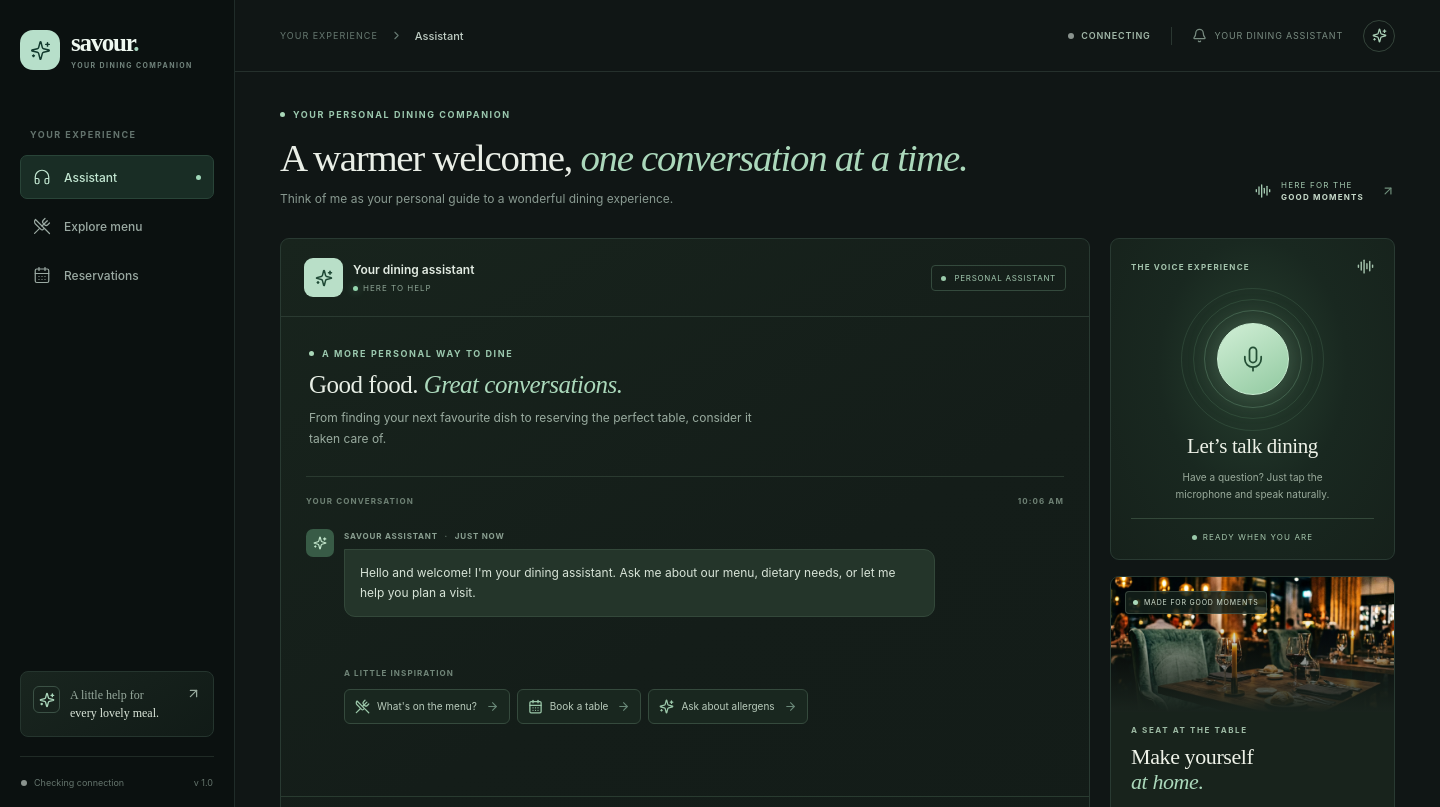
Scenario: restaurant experience › shows booking details before explicit cancellation
The width and height of the screenshot is (1440, 807).
Click the button "Reservations": (117, 275) [20,253,214,297]
(page scrolled)
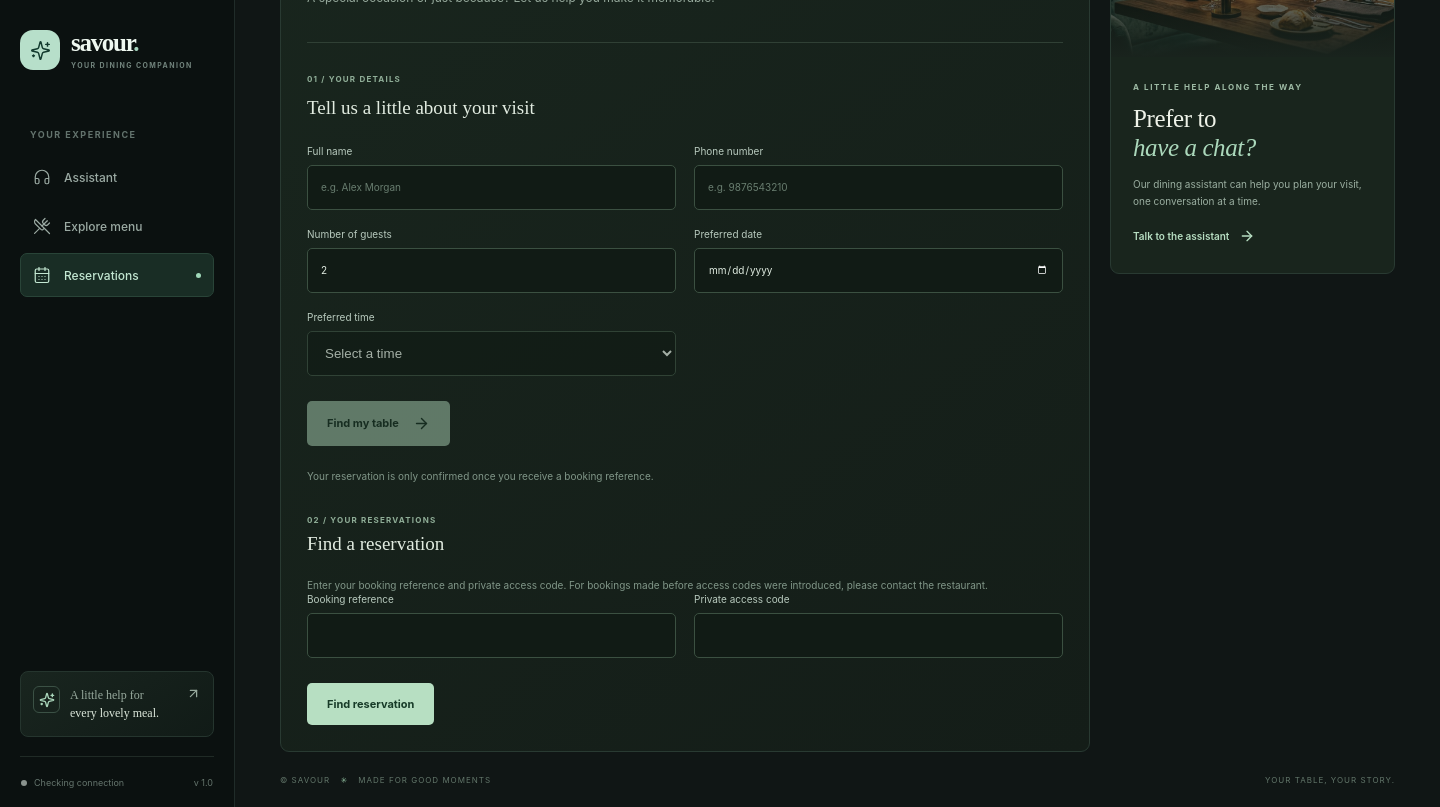
In the field labelled "Booking reference": (492, 635) [307,613,676,658], type "42"
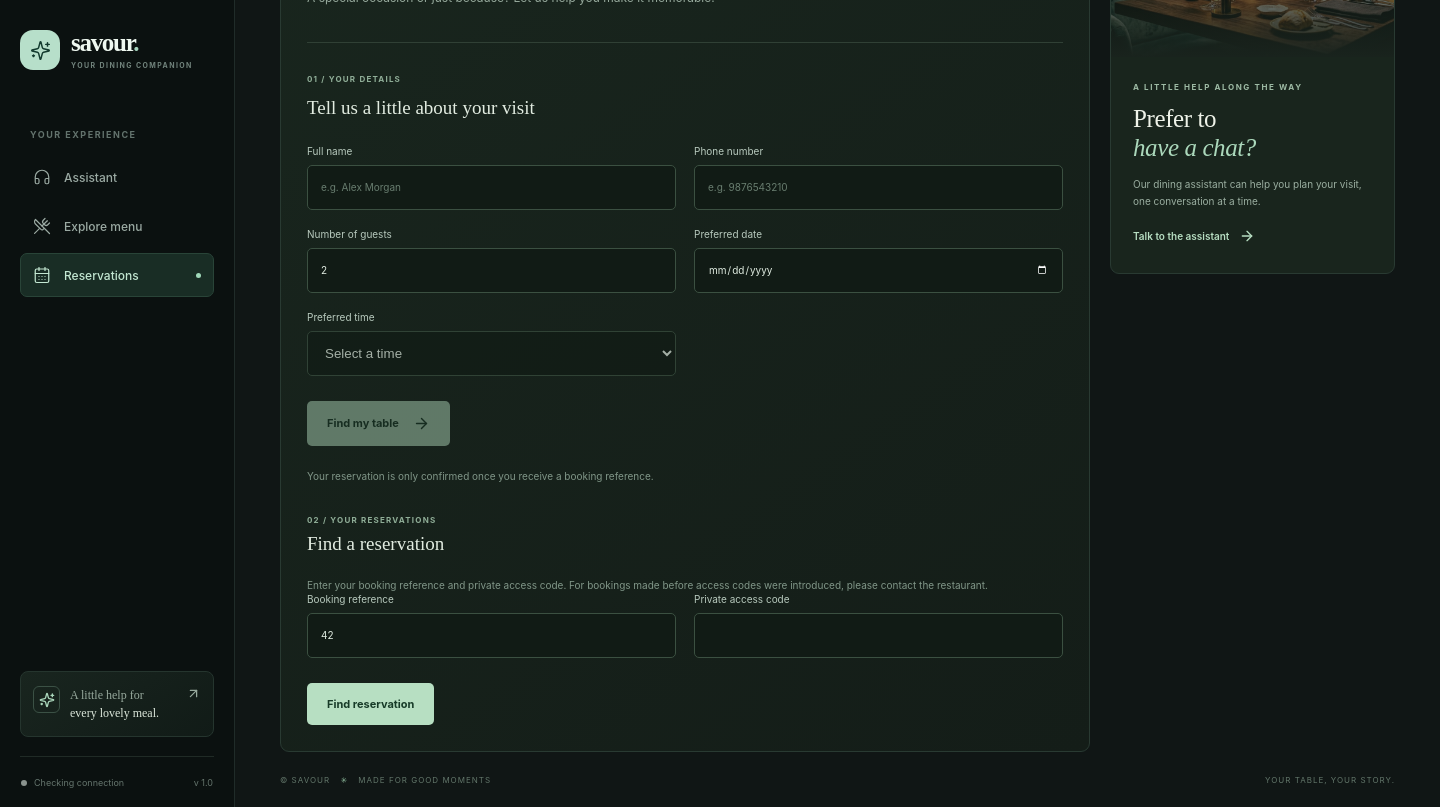
In the password field labelled "Private access code": (878, 635) [694,613,1063,658], type "private-code"
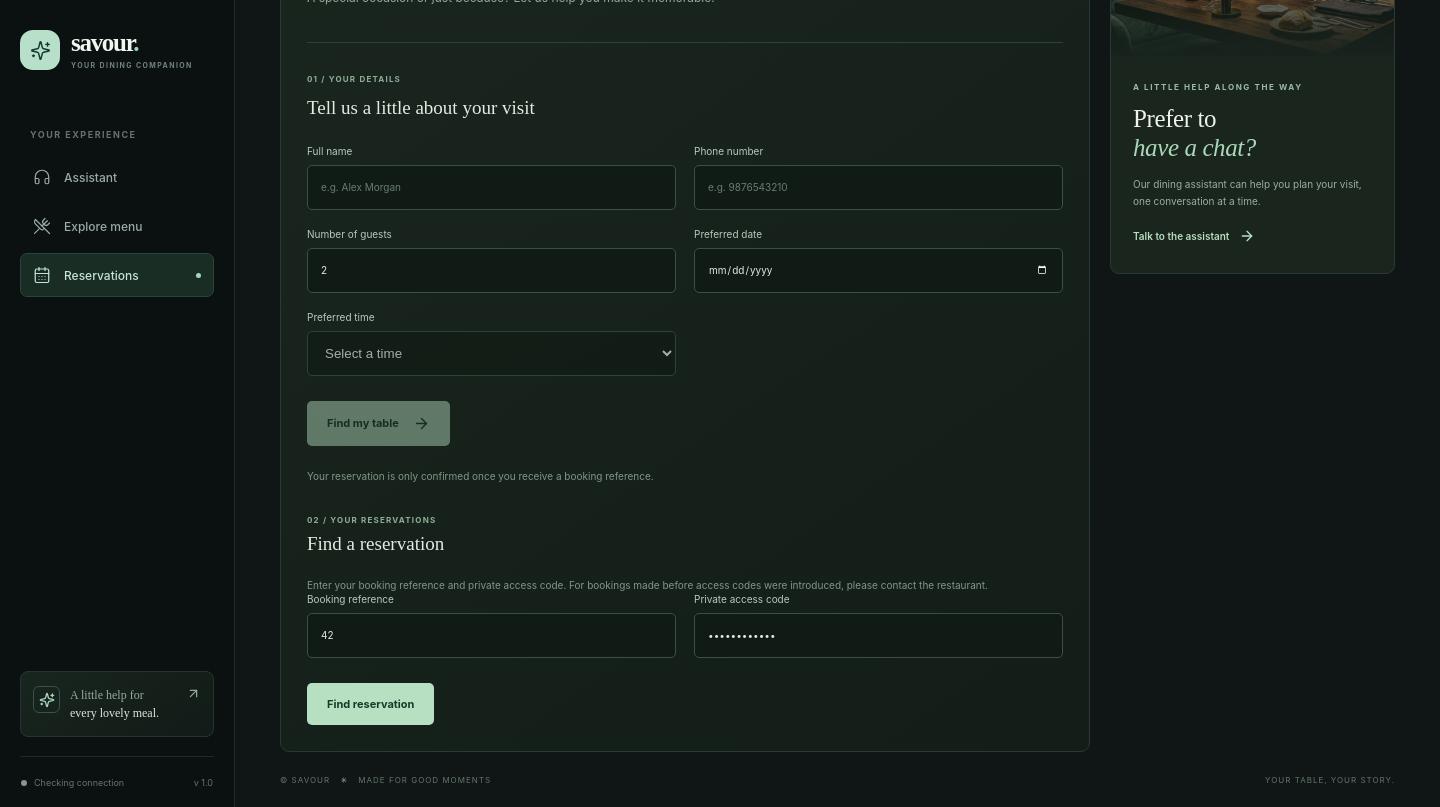
Click the button "Find reservation": (371, 704) [307,683,434,725]
(page scrolled)
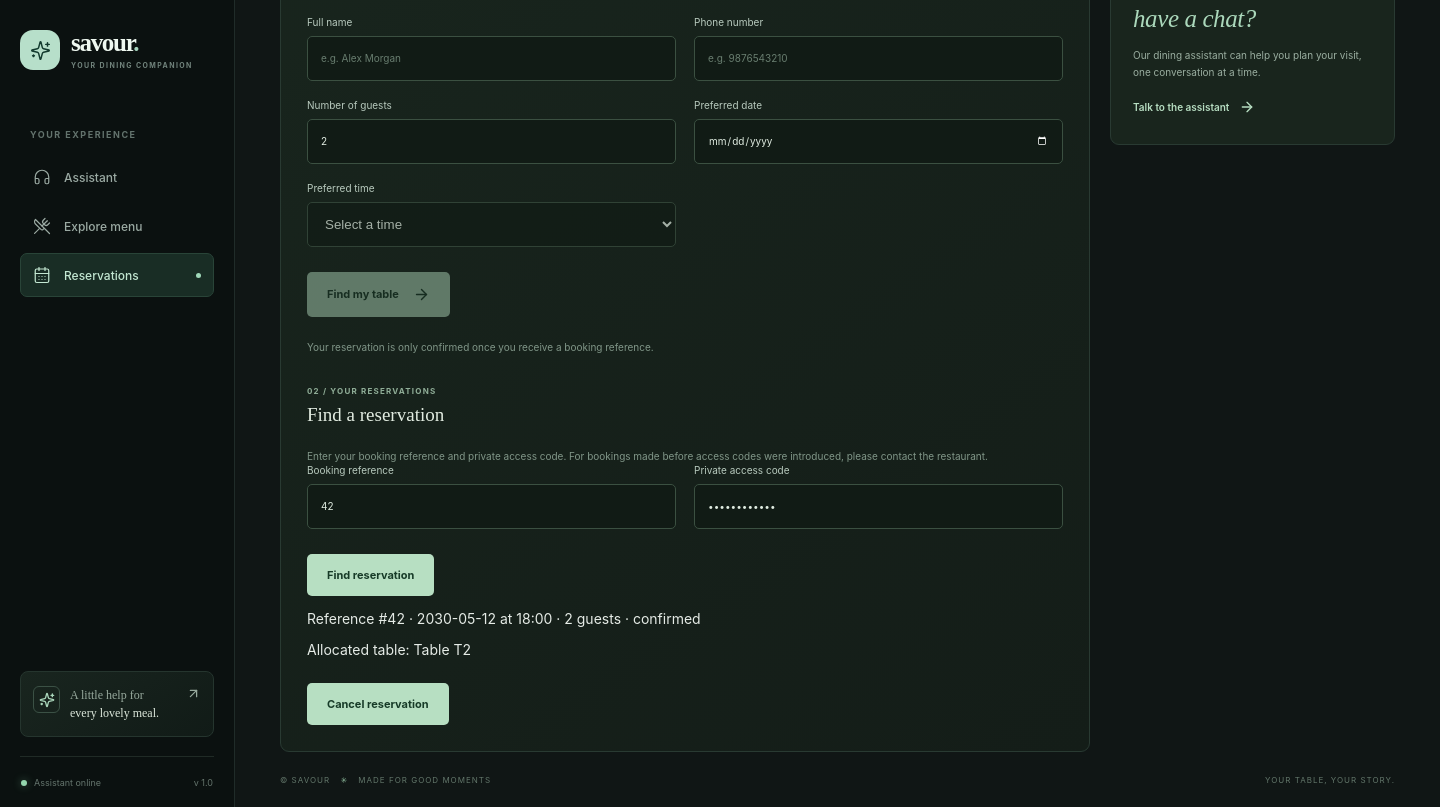
Check: the text "Reference #42 · 2030-05-12 at 18:00 · 2 guests · confirmed" is shown, box [307,610,701,627]
Click the button "Cancel reservation": (378, 704) [307,683,449,725]
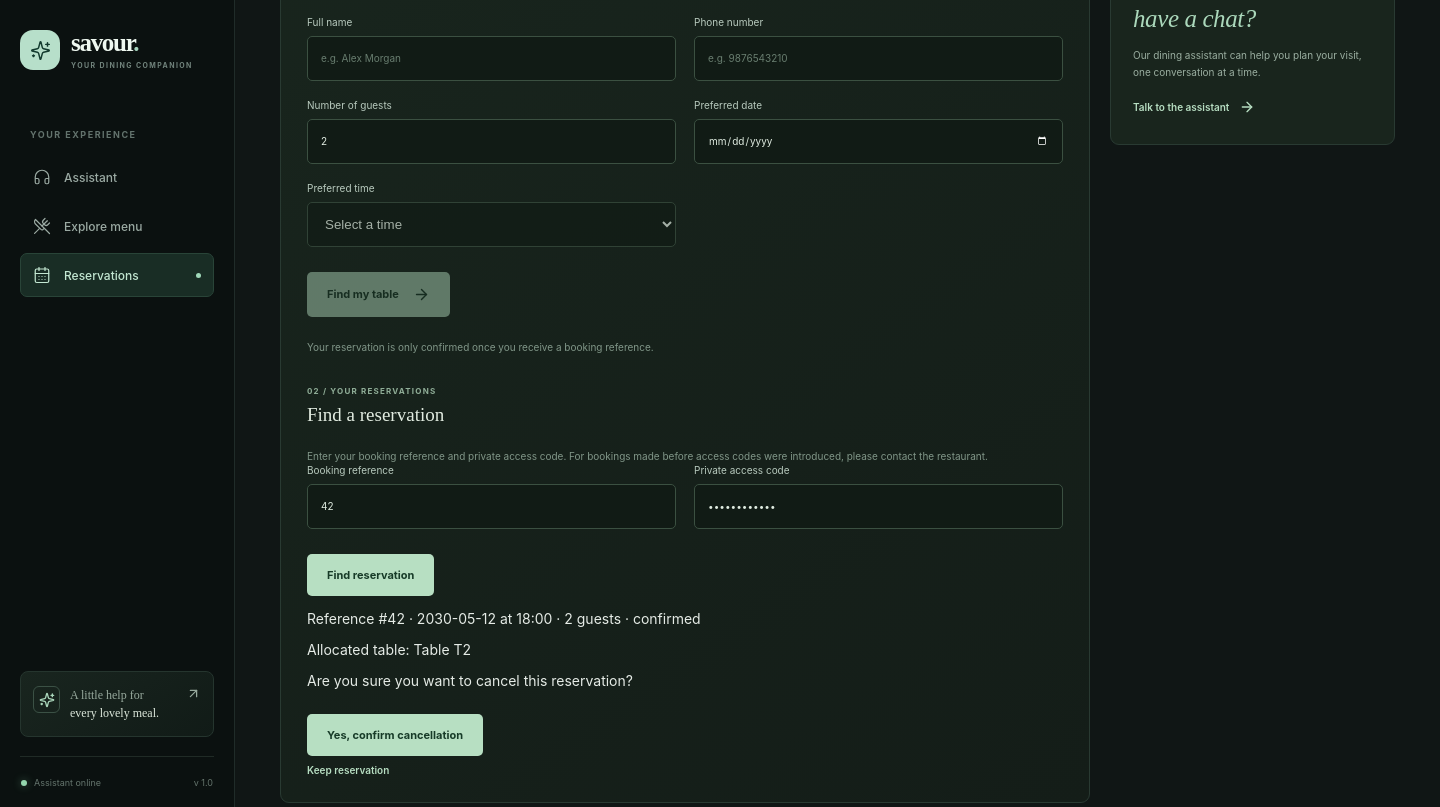
Check: the text "Are you sure you want to cancel this reservation?" is shown, box [307,672,633,689]
Click the button "Yes, confirm cancellation": (395, 735) [307,714,483,756]
(page scrolled)
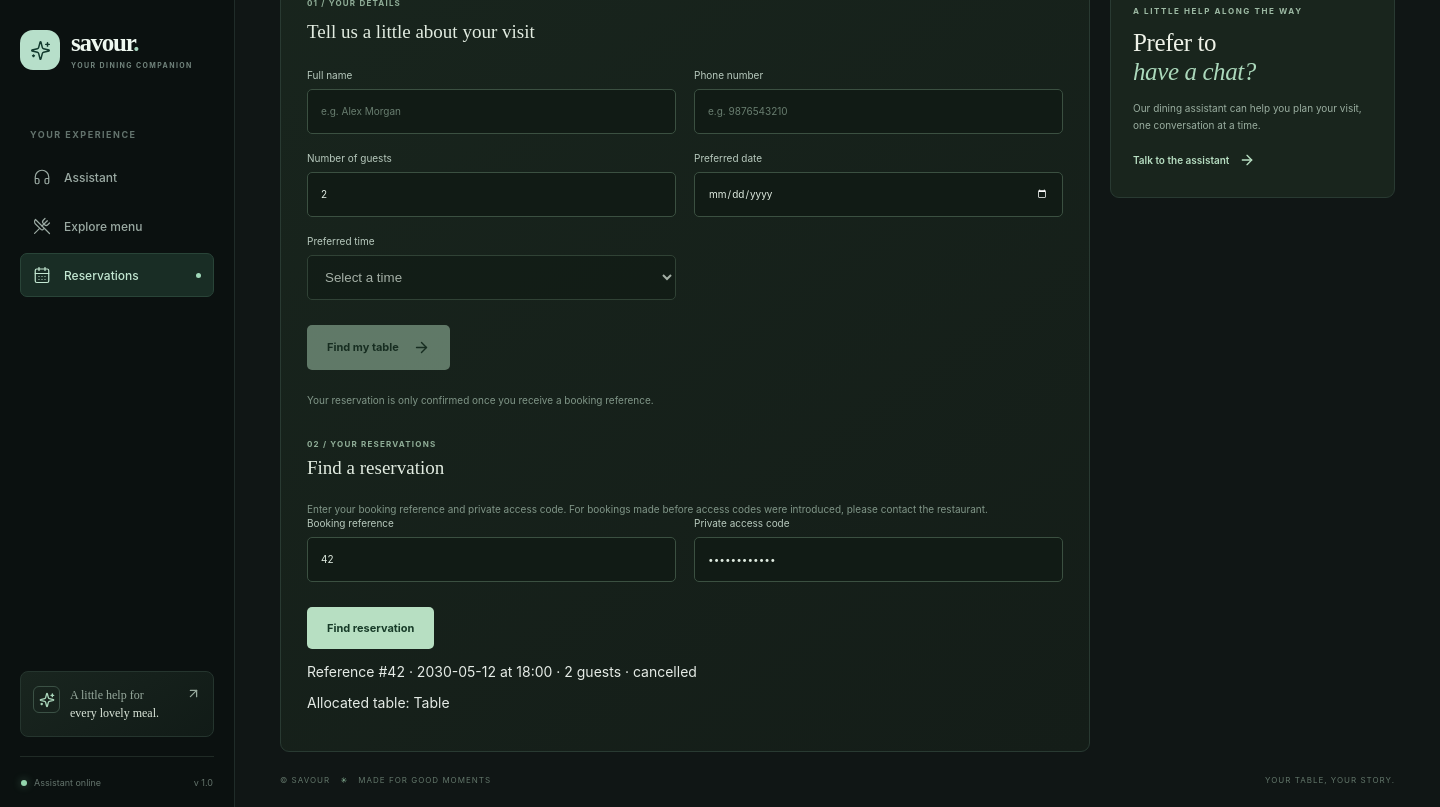
Check: the text "Reference #42 · 2030-05-12 at 18:00 · 2 guests · cancelled" is shown, box [307,663,697,680]
